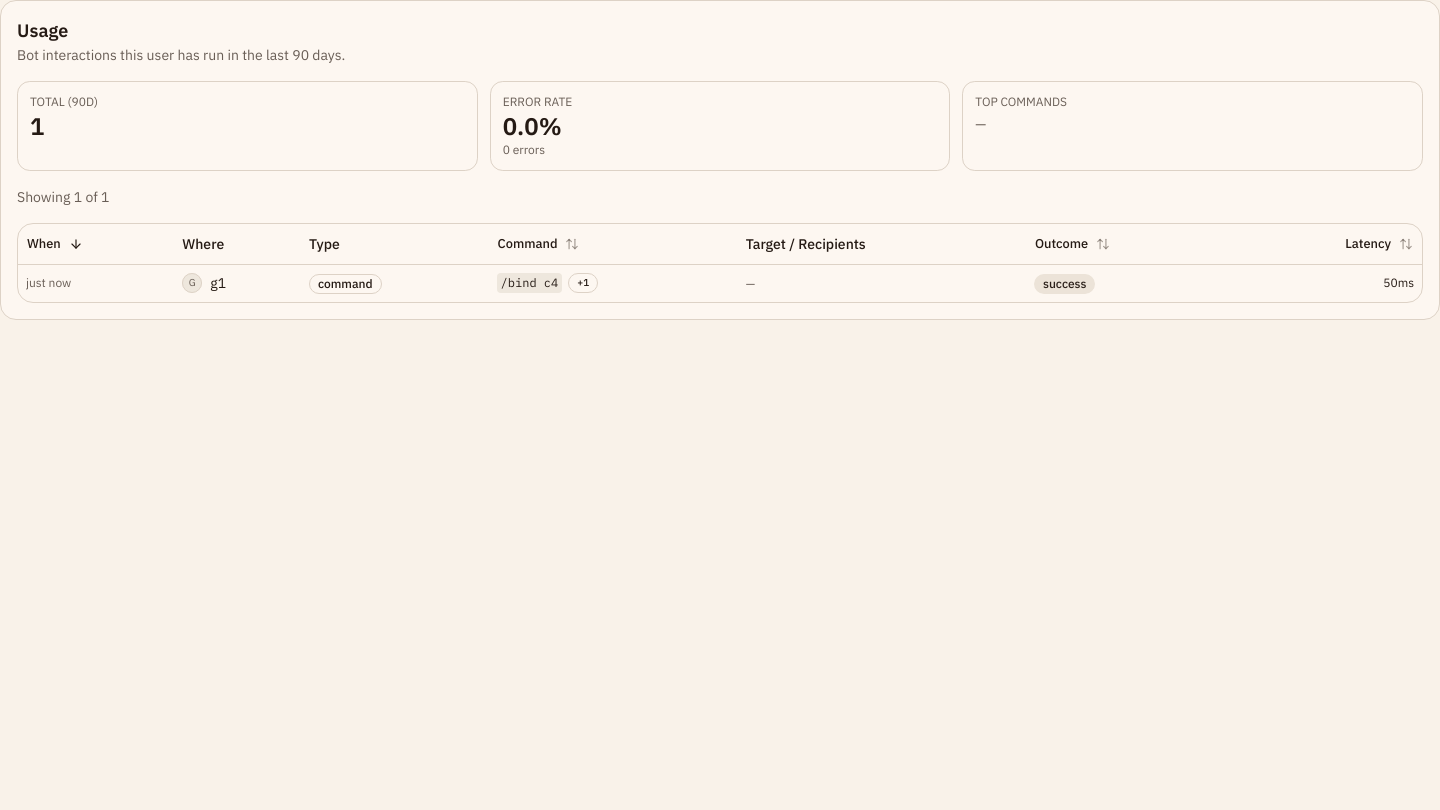
UsageSection › expanded parent loads and renders linked follow-ups
This screenshot has width=1440, height=810.
Expected: the icon "+1" is shown, [568, 273, 598, 293]
Expand the row and wait for the children fetch to resolve.
Click the text "/bind c4" at (49, 282), box [18, 264, 1422, 302]
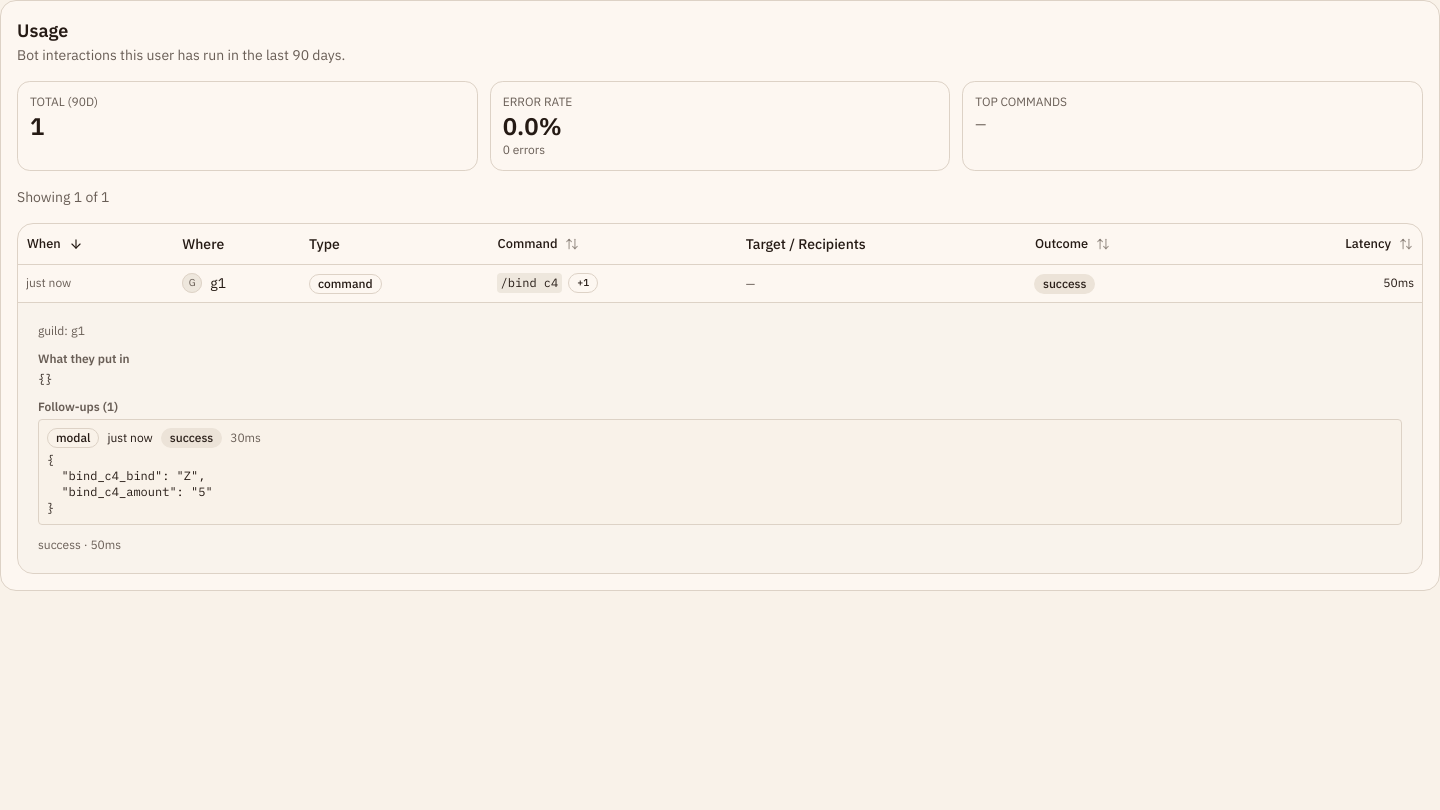
Expected: the text "Follow-ups (1)" is shown, [38, 398, 118, 414]
Expected: the text "{ \"bind_c4_bind\": \"Z\", \"bind_c4_amount\": \"5\" }" is shown, [47, 452, 213, 514]
